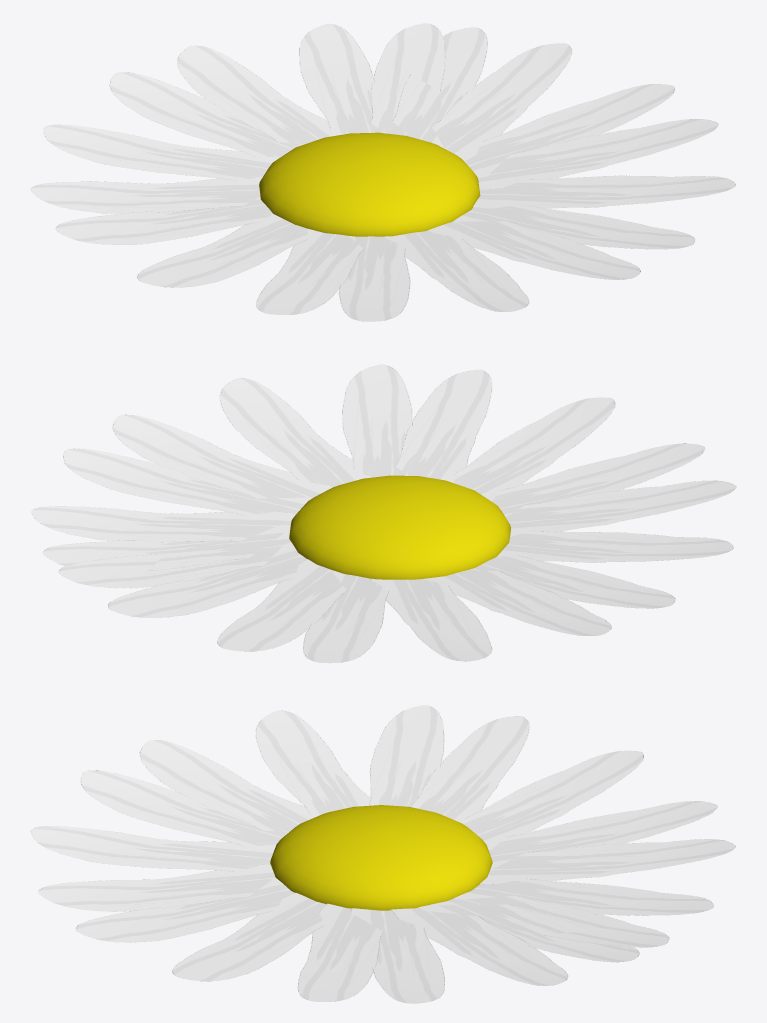
Rendered from quick_daisy_petals.fbx.
3 views of the same model, one above another, from view 1: azimuth 30°, elevation 25°; view 2: azimuth 150°, elevation 25°; view 3: azimuth 270°, elevation 25° (orthographic).
Parts seen in each view (by area): view 1: pSphere1, pPlane12, pPlane13, pPlane8, pPlane26, pPlane11, pPlane14, pPlane7, pPlane2, pPlane6, pPlane25, pPlane9 (+7 smaller); view 2: pSphere1, pPlane11, pPlane26, pPlane12, pPlane25, pPlane10, pPlane6, pPlane5, pPlane24, pPlane9, pPlane13, pPlane4 (+7 smaller); view 3: pSphere1, pPlane10, pPlane24, pPlane8, pPlane9, pPlane14, pPlane25, pPlane13, pPlane4, pPlane11, pPlane12, pPlane26 (+7 smaller).
Boxes of the visible parts, left/top/right/bottom form: pSphere1: left=259, top=132, right=480, bottom=236; pPlane12: left=432, top=43, right=572, bottom=161; pPlane13: left=177, top=45, right=344, bottom=144; pPlane8: left=43, top=124, right=280, bottom=181; pPlane26: left=478, top=119, right=718, bottom=189; pPlane11: left=473, top=175, right=735, bottom=208; pPlane14: left=30, top=176, right=262, bottom=213; pPlane7: left=298, top=23, right=387, bottom=134; pPlane2: left=109, top=72, right=303, bottom=156; pPlane6: left=465, top=84, right=674, bottom=178; pPlane25: left=427, top=221, right=640, bottom=279; pPlane9: left=137, top=213, right=308, bottom=287; pSphere1: left=289, top=475, right=510, bottom=579; pPlane11: left=219, top=378, right=371, bottom=487; pPlane26: left=112, top=414, right=332, bottom=498; pPlane12: left=31, top=506, right=296, bottom=542; pPlane25: left=395, top=369, right=492, bottom=483; pPlane10: left=453, top=397, right=615, bottom=501; pPlane6: left=63, top=448, right=313, bottom=515; pPlane5: left=342, top=364, right=412, bottom=477; pPlane24: left=506, top=480, right=736, bottom=536; pPlane9: left=496, top=530, right=733, bottom=562; pPlane13: left=217, top=559, right=347, bottom=651; pPlane4: left=492, top=443, right=704, bottom=517; pSphere1: left=270, top=805, right=492, bottom=910; pPlane10: left=30, top=826, right=275, bottom=872; pPlane24: left=139, top=740, right=316, bottom=831; pPlane8: left=464, top=750, right=643, bottom=850; pPlane9: left=255, top=710, right=370, bottom=816; pPlane14: left=411, top=716, right=529, bottom=824; pPlane25: left=38, top=864, right=275, bottom=911; pPlane13: left=480, top=839, right=735, bottom=884; pPlane4: left=80, top=770, right=289, bottom=846; pPlane11: left=172, top=892, right=326, bottom=981; pPlane12: left=391, top=908, right=568, bottom=985; pPlane26: left=297, top=903, right=382, bottom=1001.
Size of the model in its own units: 2.81 by 0.3126 by 2.81.
